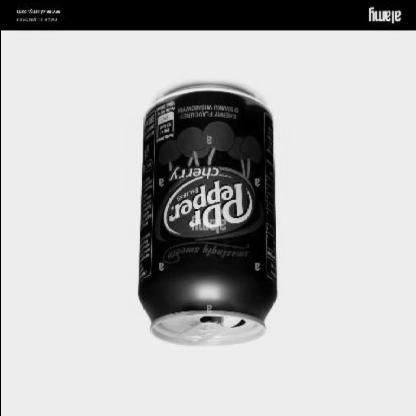alumunium_can: (136, 83, 276, 348)
